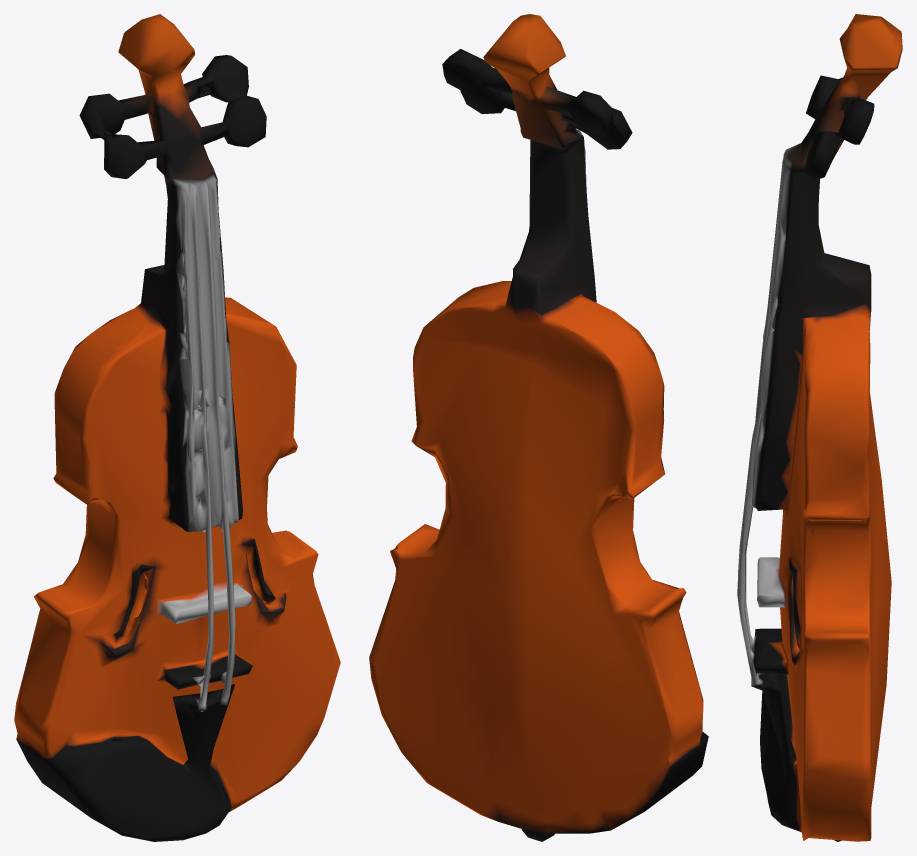
Rendered from gen3d-violin-lod0.glb.
3 renders of one model, left to right at view 1: azimuth 30°, elevation 25°; view 2: azimuth 150°, elevation 25°; view 3: azimuth 270°, elevation 25°, orthographic. The views are drawn at different scales.
Visible parts, largest first — view 1: part_0; view 2: part_0; view 3: part_0.
Boxes of the visible parts, box(x1,y1,x2,y2) form: part_0: box(14, 14, 340, 841); part_0: box(369, 14, 708, 841); part_0: box(737, 14, 902, 841).
Bounding box in the file's own units: 0.387 × 0.9981 × 0.1832.
